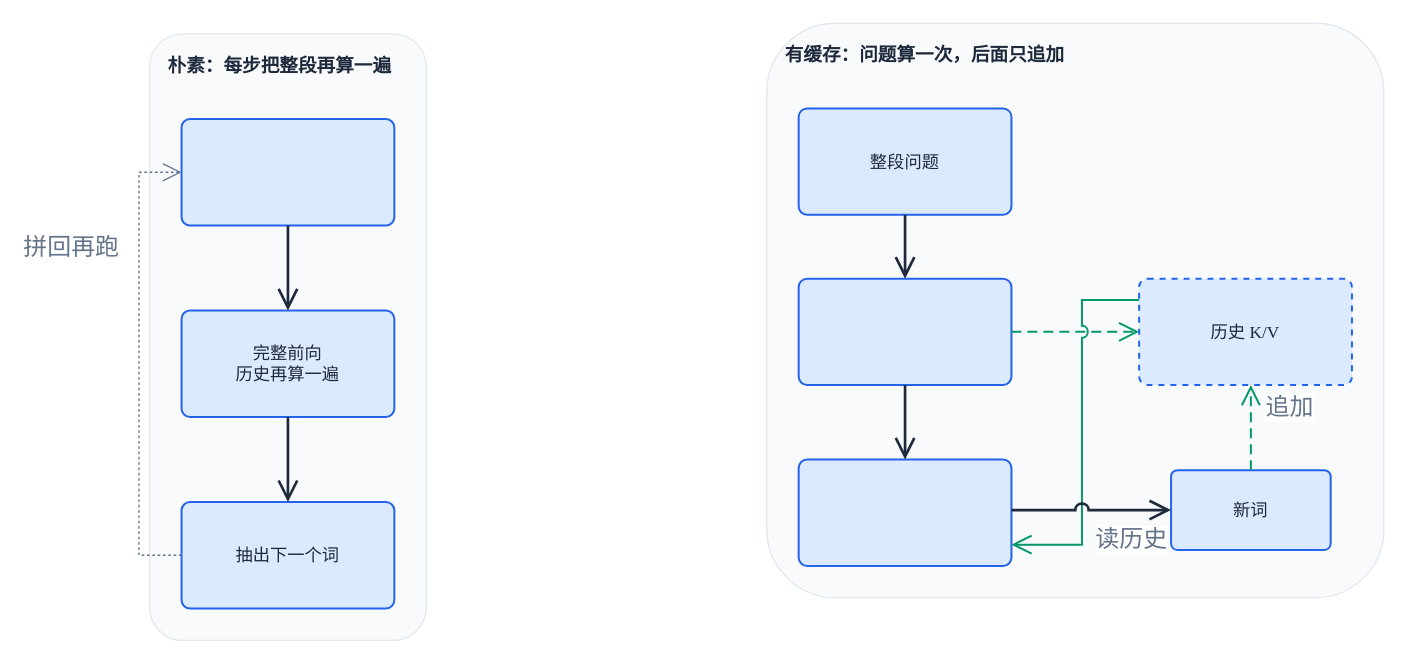
The diagram is 1407 pixels wide and 664 high, and some of its shapes have lost their labels. Each missing label, with the centre of its shape:
"先处理问题" belongs at (x=904, y=331).
"再吐一个词" belongs at (x=904, y=512).
"已有的整段" belongs at (x=287, y=171).
